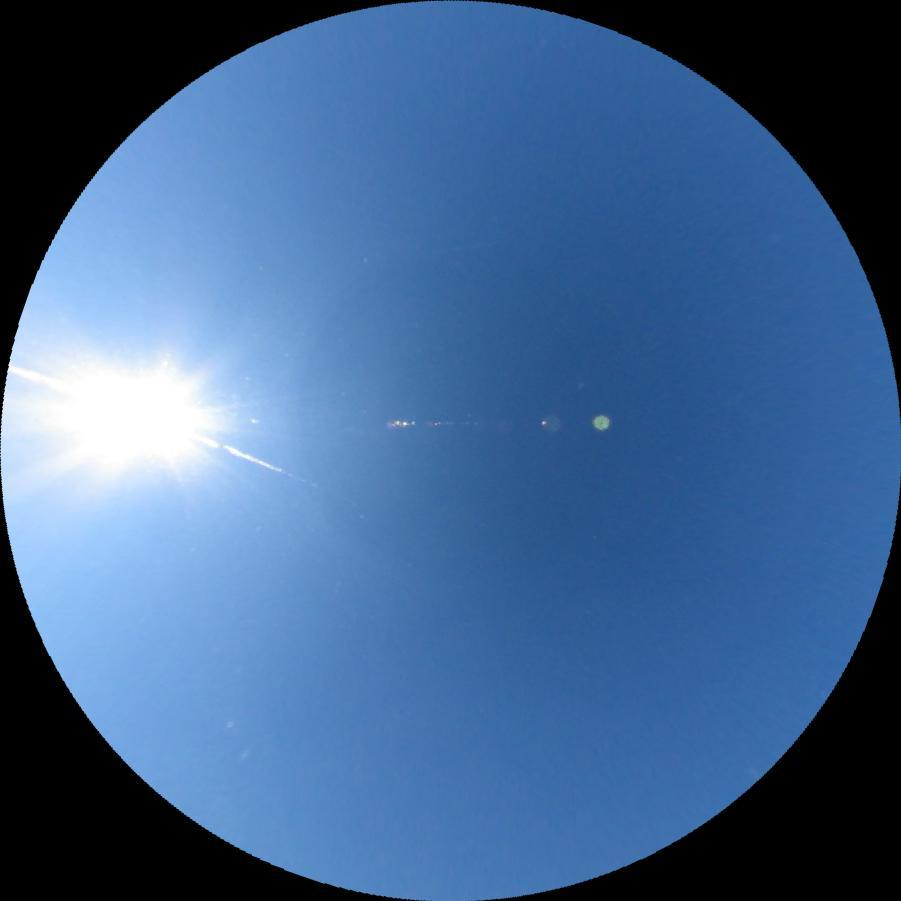contrail young: (418, 240, 498, 259)
sun: (59, 363, 203, 465)
